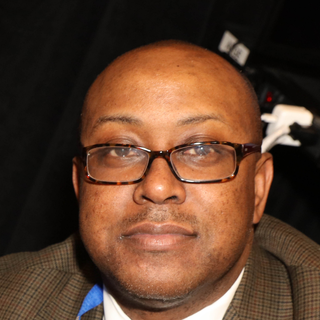eye: (96, 140, 142, 163), (178, 139, 224, 157)
